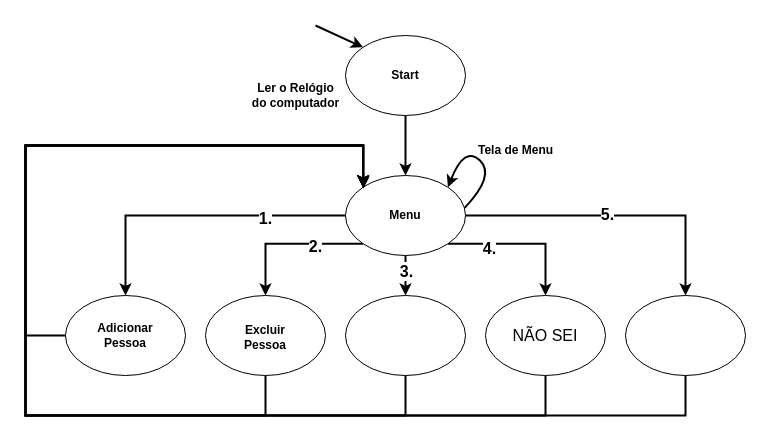
Some shapes in this 763 by 441 pixel diagram are drawn without their labels. The shapes that lost their labels are listed below. From the top down, each one's centre as x and y in pixels, then its label:
At [405,335]: "Verificar Logs".
At [685,335]: "Atualizar Relógio".
